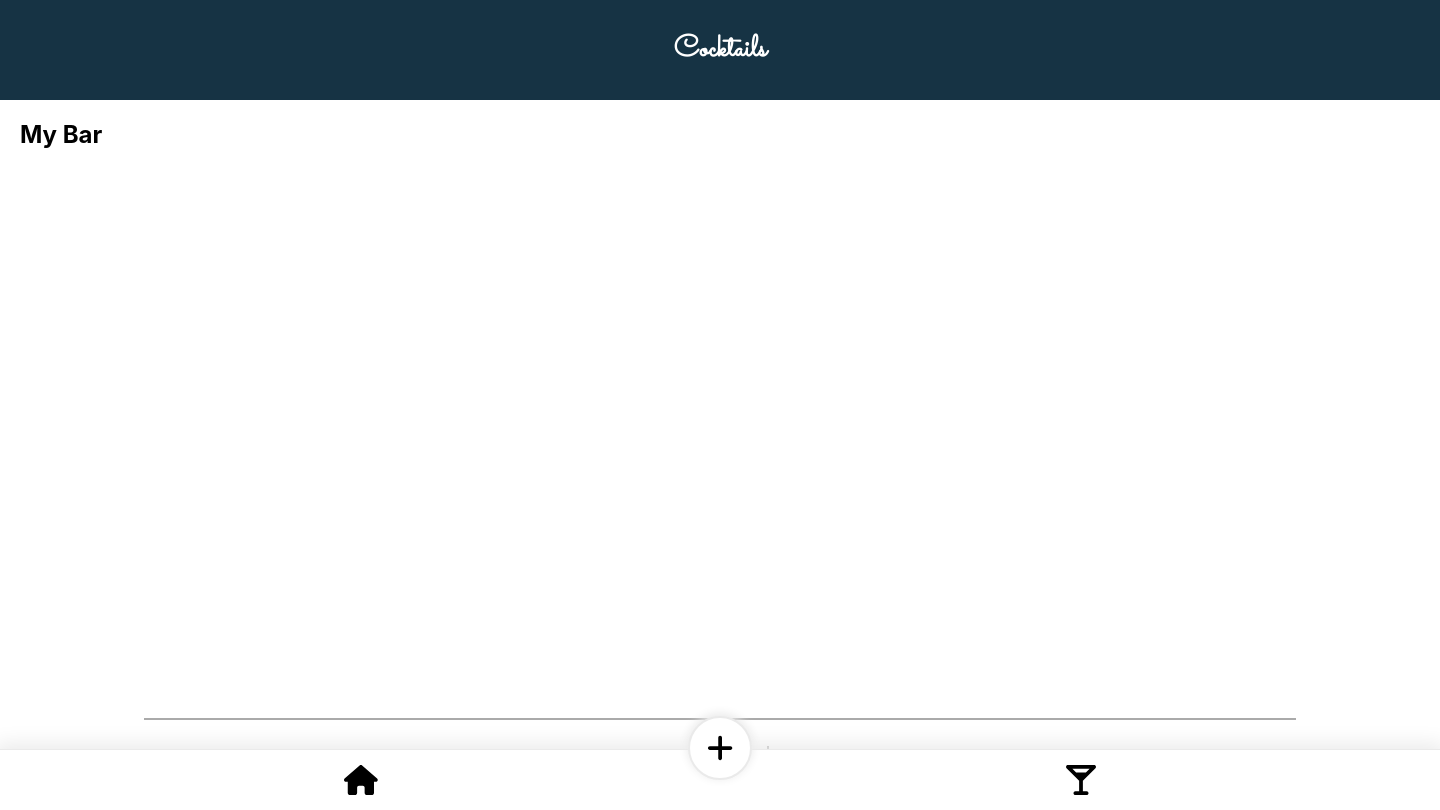
Test: Given App component › When the user taps at 'Create My Cocktail' link › Then it should be rendered 'Create a cocktail' heading in the page
Click the 1st link named "Create My Cocktail": (720, 748) [707, 733, 733, 763]
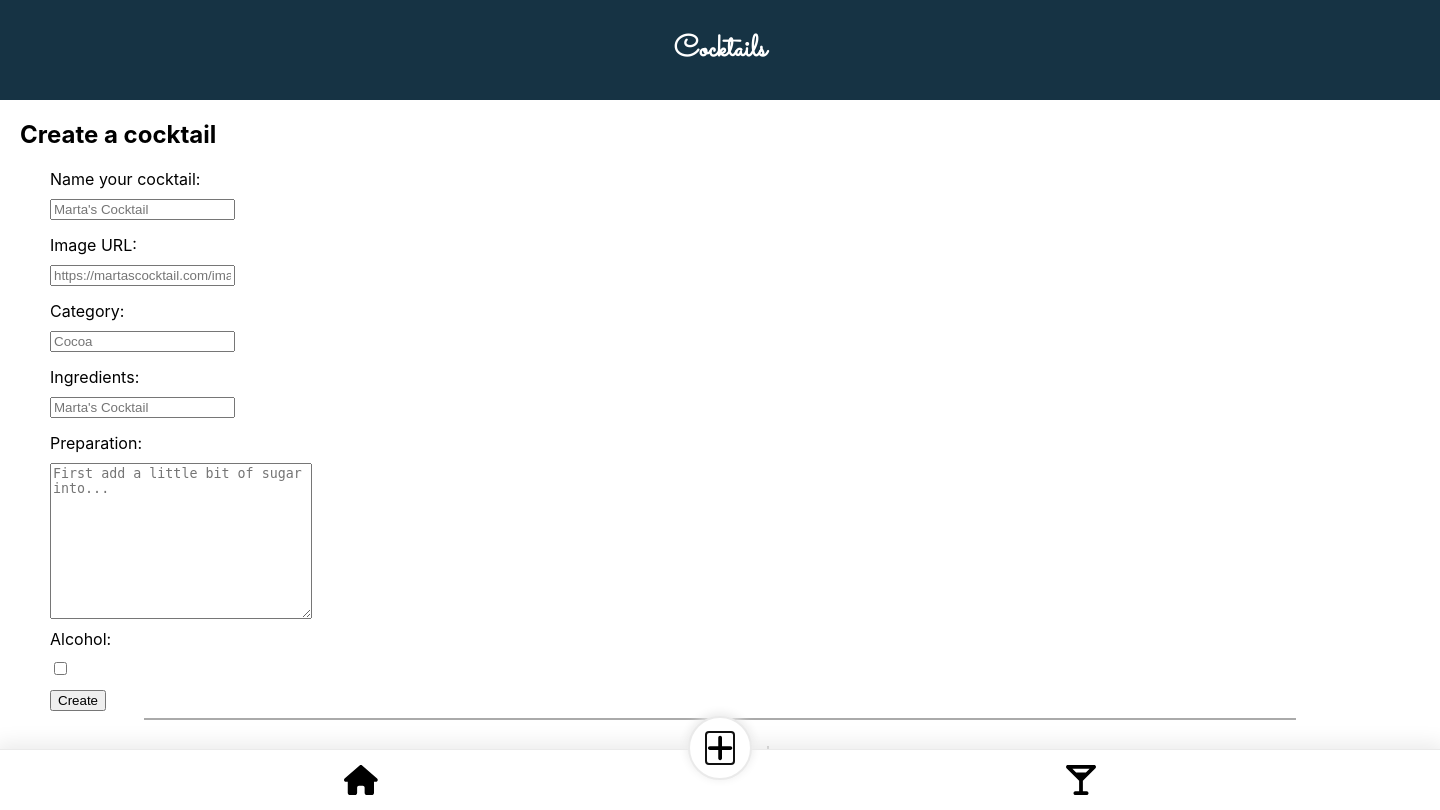
Now the heading "Create a cocktail" is shown, box [20, 120, 216, 149]
